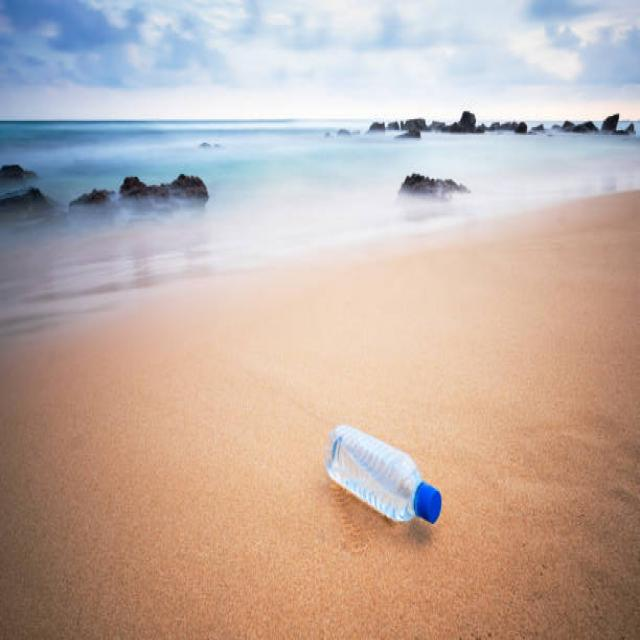plastic: (330, 427, 441, 524)
